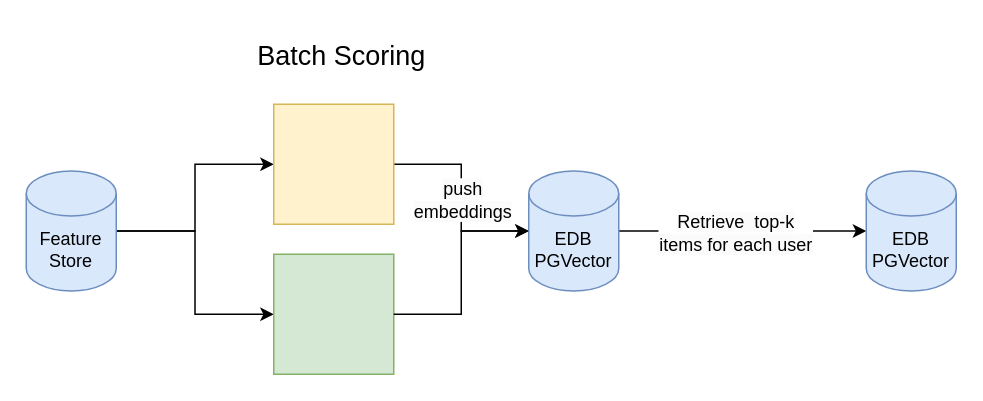
Some shapes in this 983 by 401 pixel diagram are drawn without their labels. The shapes that lost their labels are listed below. From the top down, each one's centre as x and y in pixels, then its label:
At point (333, 163): "Trained Item Encoder".
At point (333, 313): "Trained User Encoder".
